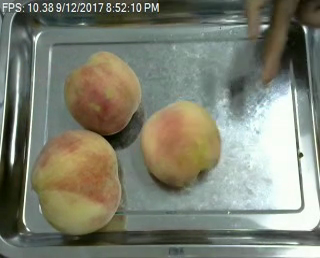Peach: (32, 128, 122, 236), (140, 99, 222, 187), (63, 49, 142, 135)
